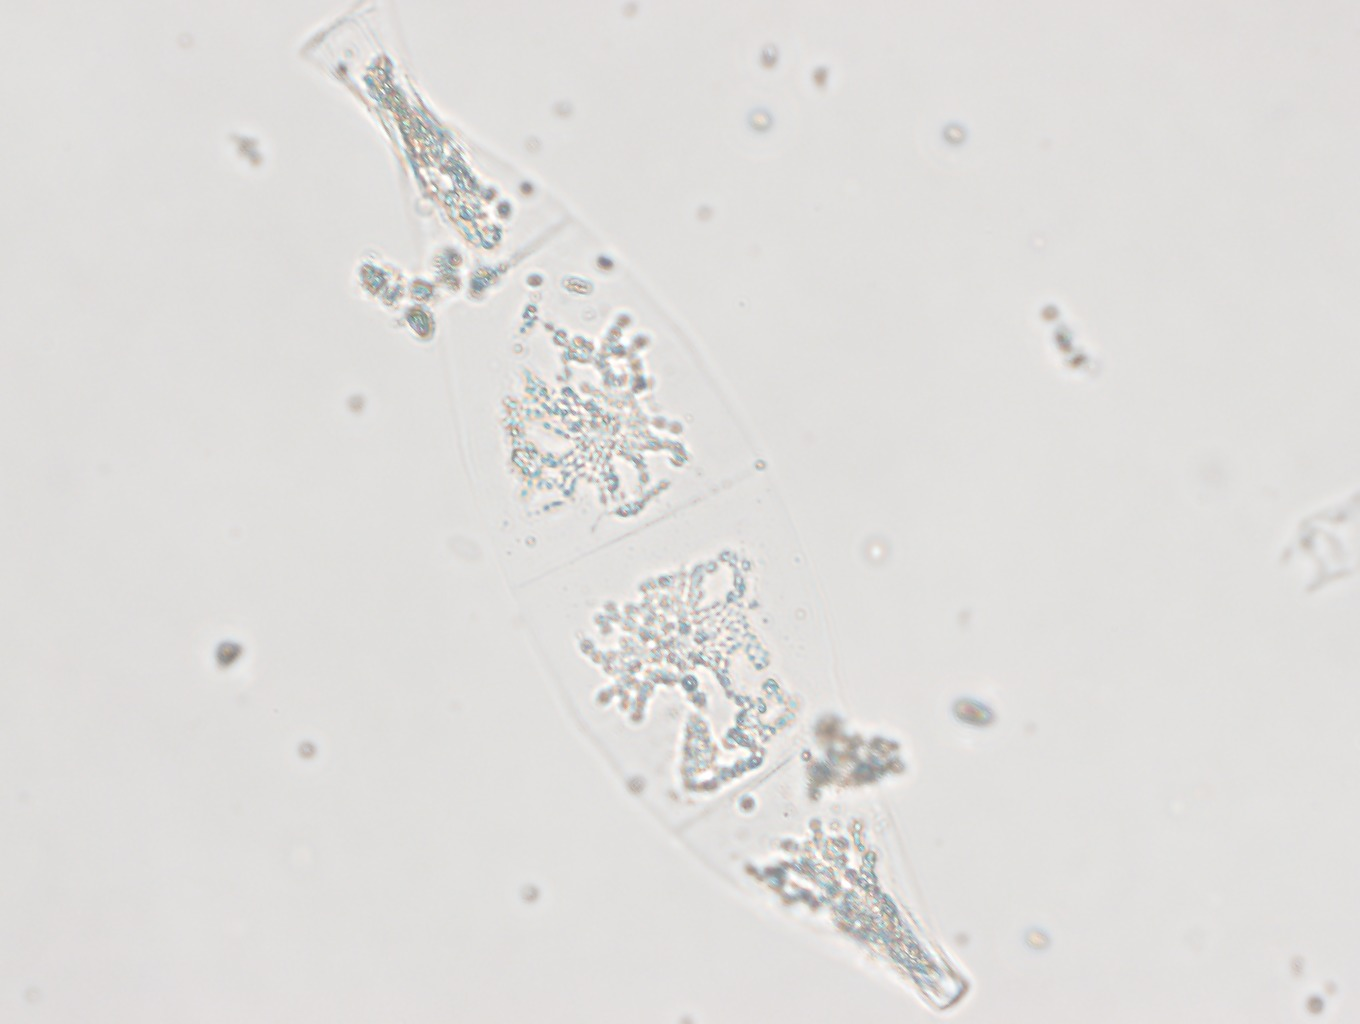helicotheca: (298, 1, 968, 1016)
